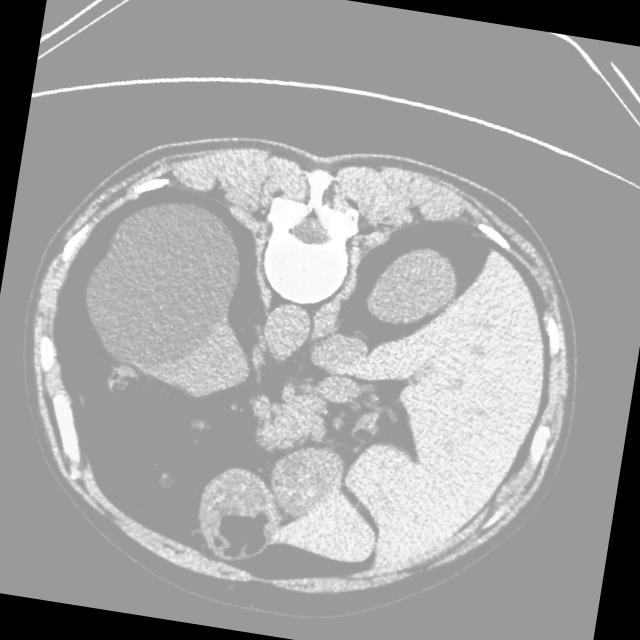cysts: (0, 105, 606, 640)
